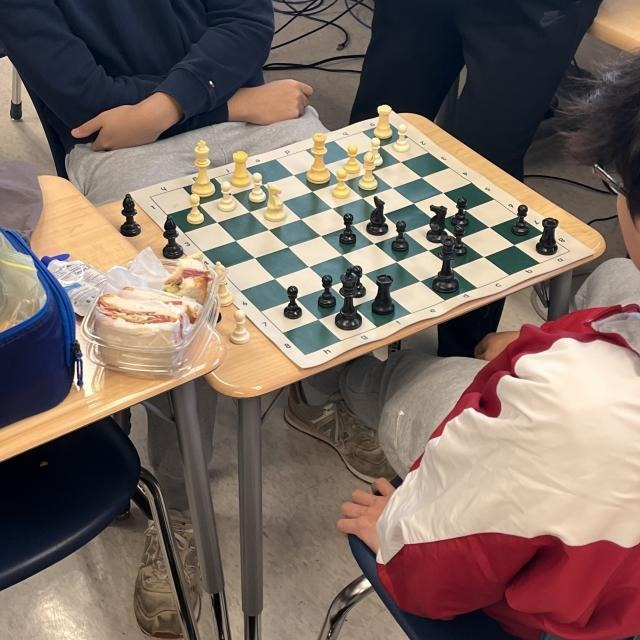black-bishop: (160, 214, 183, 258), (118, 192, 141, 236)
black-king: (335, 269, 361, 330)
black-knight: (366, 196, 390, 236), (428, 204, 450, 242)
black-pawn: (282, 284, 301, 320), (318, 276, 336, 308), (349, 265, 367, 297), (339, 212, 356, 244), (449, 224, 466, 256), (392, 221, 410, 251), (512, 204, 528, 236), (452, 197, 468, 227)
black-queen: (432, 236, 460, 294)
black-rook: (370, 273, 395, 315), (534, 216, 558, 255)
white-bishop: (358, 147, 378, 190)
white-king: (192, 140, 216, 198)
white-knight: (264, 182, 287, 222)
white-pawn: (229, 309, 251, 345), (185, 194, 204, 225), (248, 172, 266, 202), (218, 181, 236, 211), (333, 169, 350, 199), (393, 124, 411, 152), (343, 144, 360, 172), (369, 137, 383, 167)
white-queen: (305, 132, 330, 184)
white-rook: (230, 150, 250, 188), (372, 104, 391, 138)
